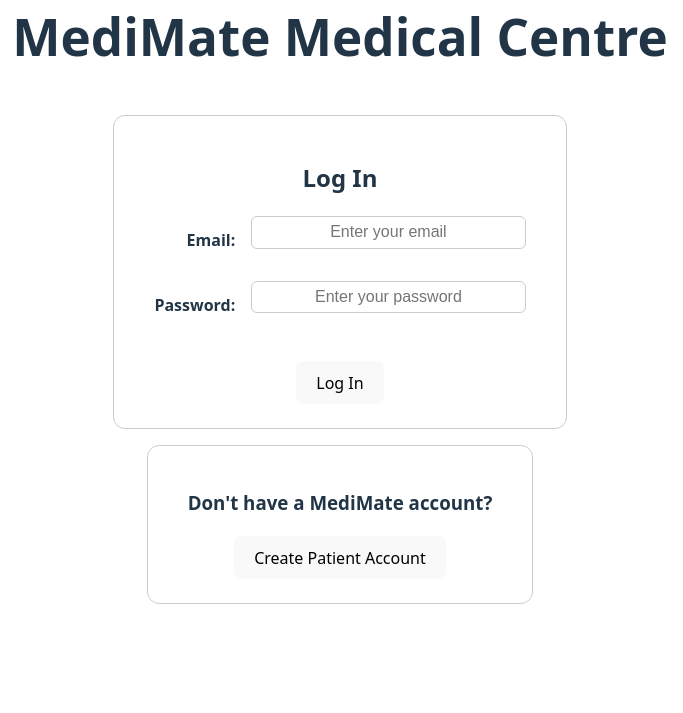
Scenario: Test /login page create account card › Create account button directs to /signup page
Step 1. Click the button with test id "app-create-account-card-button" → (340, 558), box [234,536,446,579]
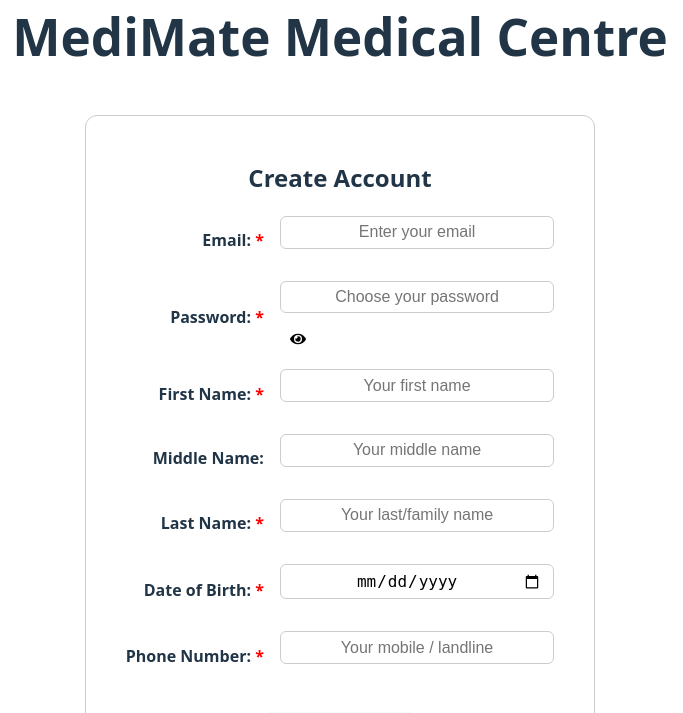
expect the heading "Create Account" is shown: met, box [248,160,432,196]
